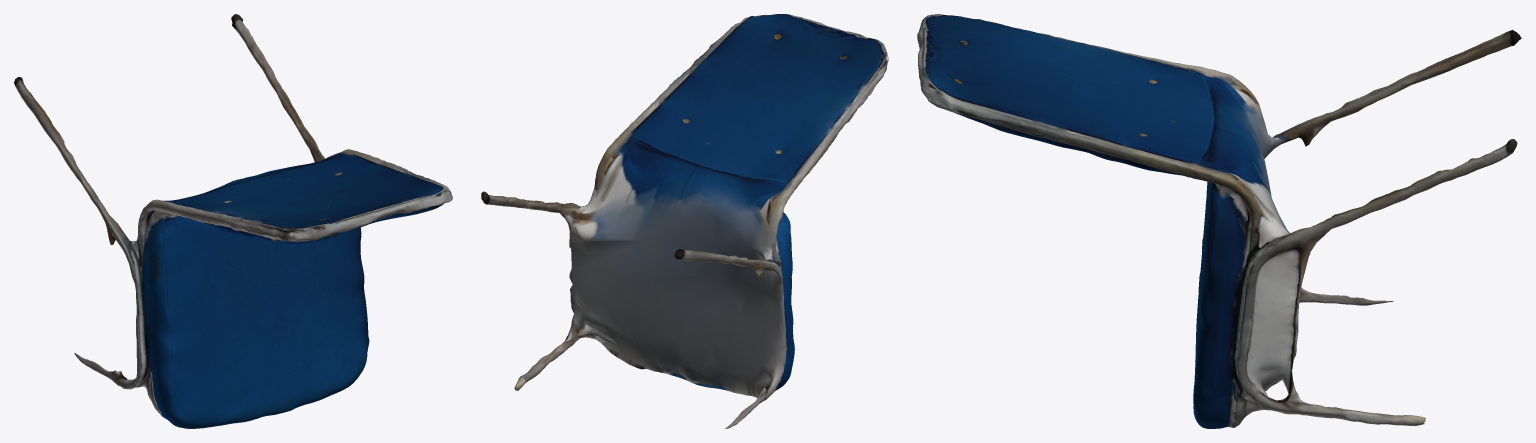
The model's file is Teacher_chair.obj.
3 views of the same model, side by side, from view 1: azimuth 30°, elevation 25°; view 2: azimuth 150°, elevation 25°; view 3: azimuth 270°, elevation 25° (orthographic). The views are drawn at different scales.
Parts seen in each view (by area): view 1: obj1; view 2: obj1; view 3: obj1.
Part boxes in pixels (left/top/right/bottom): obj1: left=14, top=14, right=452, bottom=428; obj1: left=481, top=14, right=888, bottom=428; obj1: left=917, top=14, right=1521, bottom=428.
Size of the model in its own units: 0.4322 by 0.5478 by 0.8646.
Materials: 1 (1 with a texture image).
